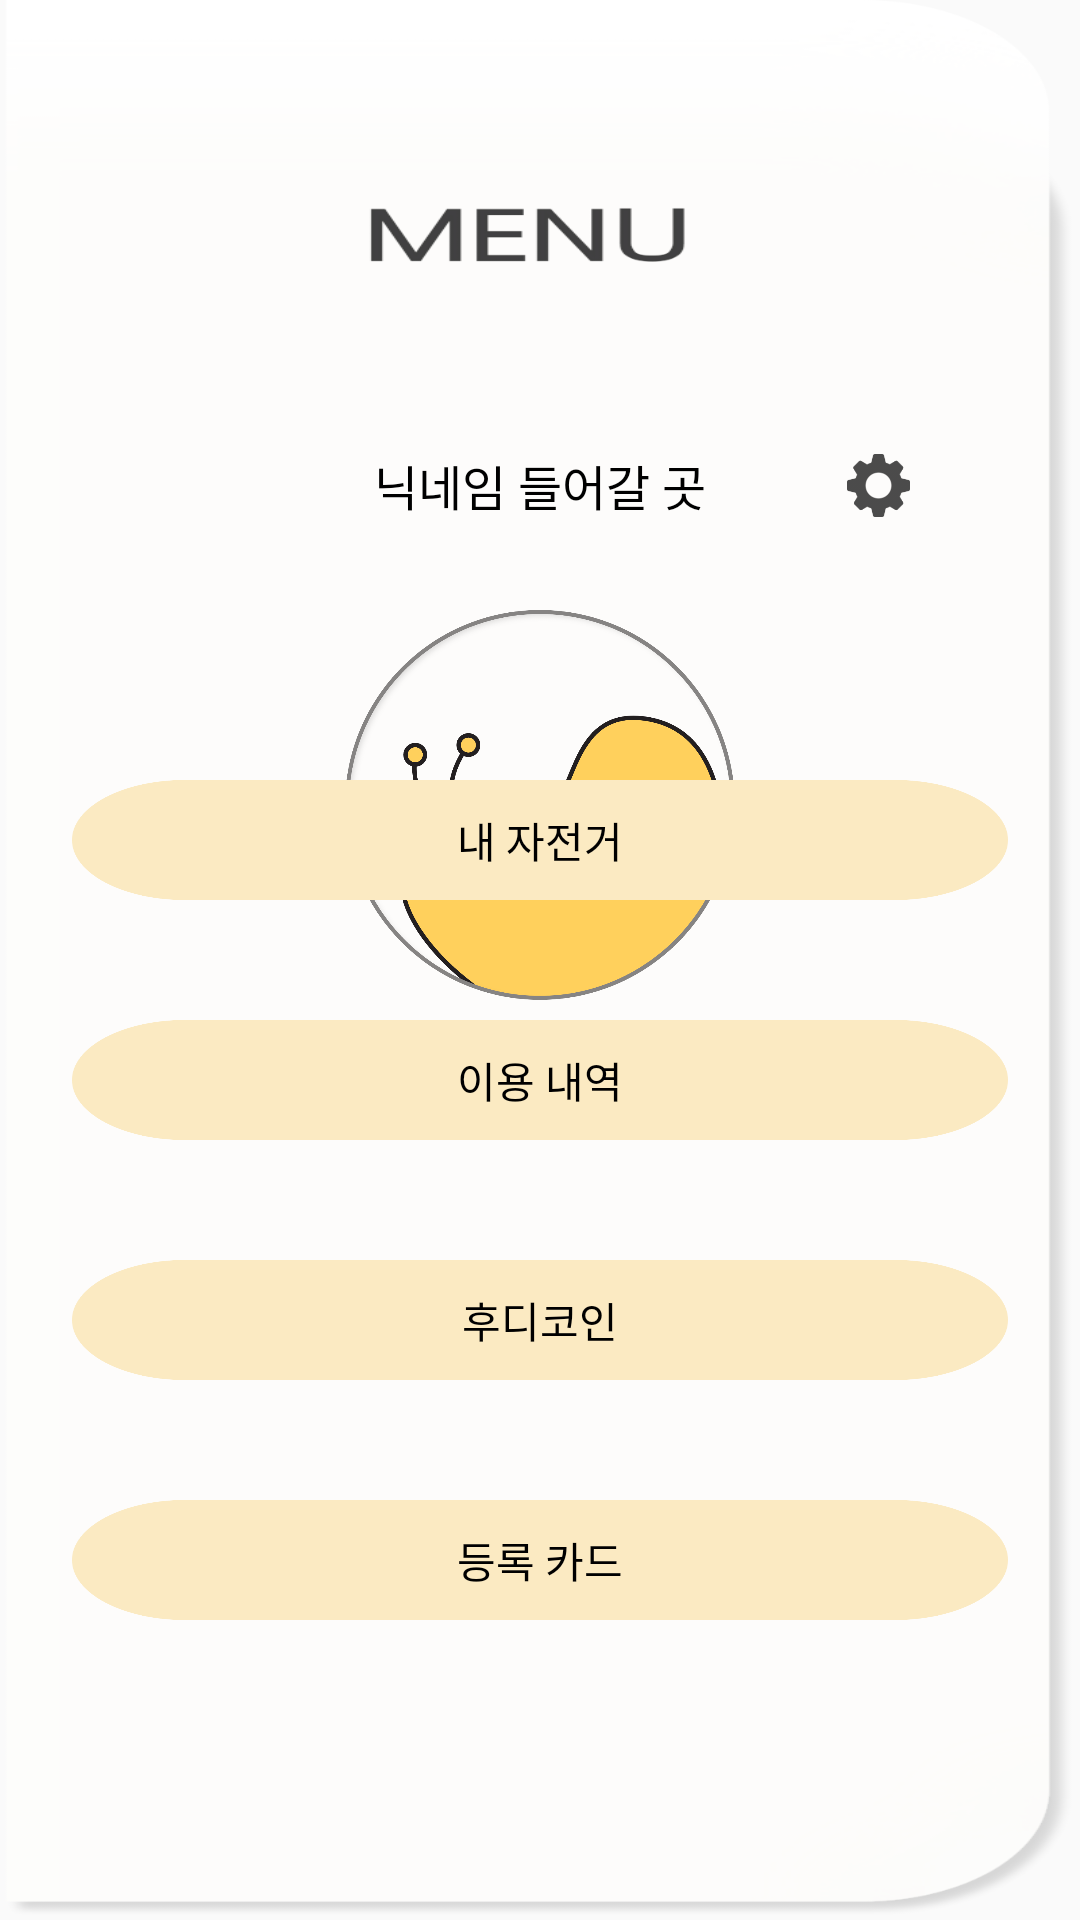

Where icons sit on this 1080 x 1920 app screen, as (x1, y1, x2, y2):
setting: (847, 454, 910, 517)
